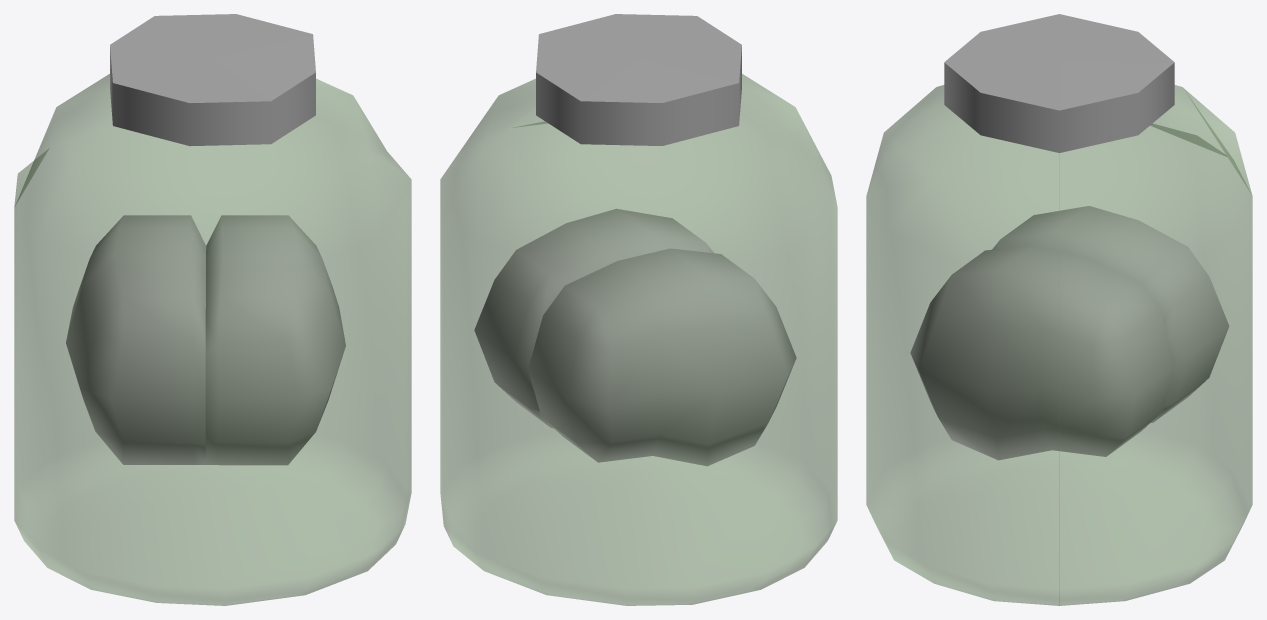
The model's file is Jar.fbx.
The picture shows the model from 3 angles, left to right: view 1: azimuth 30°, elevation 25°; view 2: azimuth 150°, elevation 25°; view 3: azimuth 270°, elevation 25°; orthographic projection.
Parts seen in each view (by area): view 1: Jar, Brain; view 2: Jar, Brain; view 3: Jar, Brain.
Boxes of the visible parts, x1=… form: Jar: x1=14, y1=14, x2=411, y2=605; Brain: x1=66, y1=215, x2=345, y2=465; Jar: x1=440, y1=14, x2=837, y2=605; Brain: x1=474, y1=208, x2=796, y2=466; Jar: x1=866, y1=14, x2=1252, y2=605; Brain: x1=910, y1=206, x2=1229, y2=460.
Bounding box in the file's own units: 0.0297 × 0.0389 × 0.0288.
